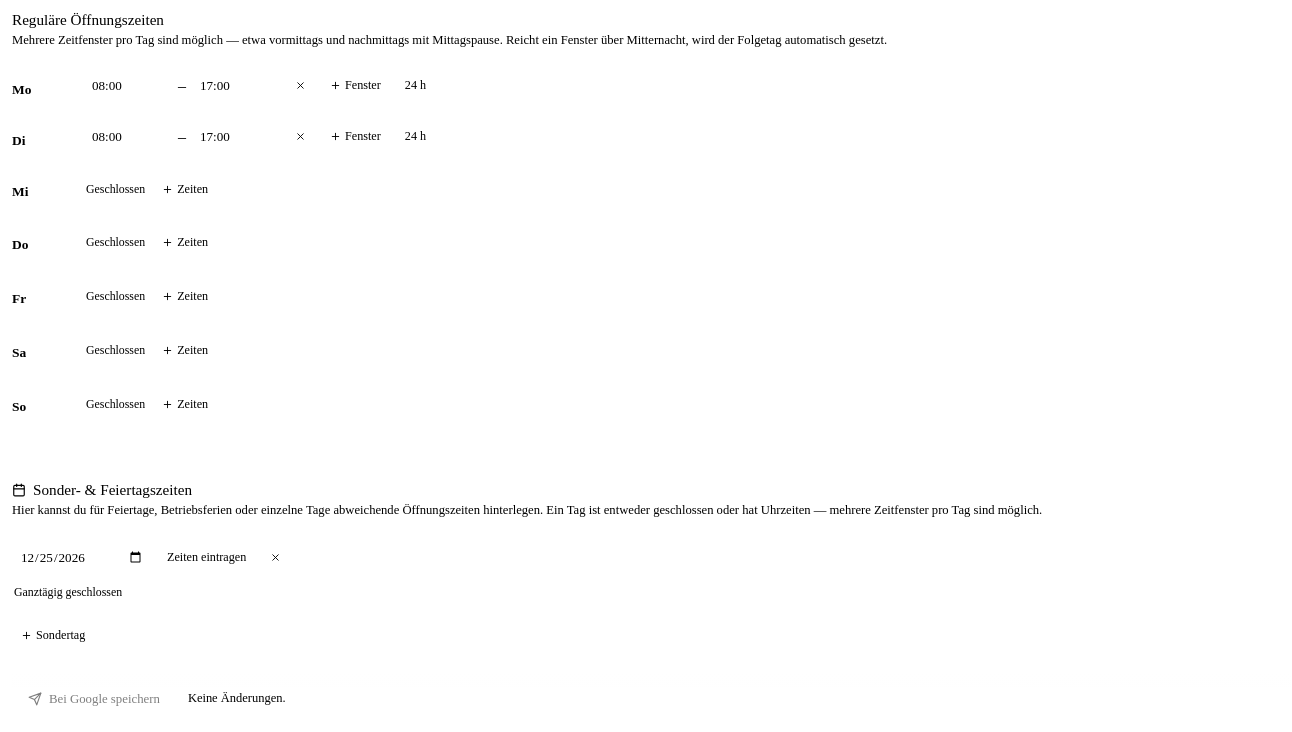
Test case: Bearbeiten › fügt ein zweites Zeitfenster am selben Tag hinzu
Type "12:00" into the field named "Montag Schließung 1" at (236, 86), box [192, 72, 280, 100]
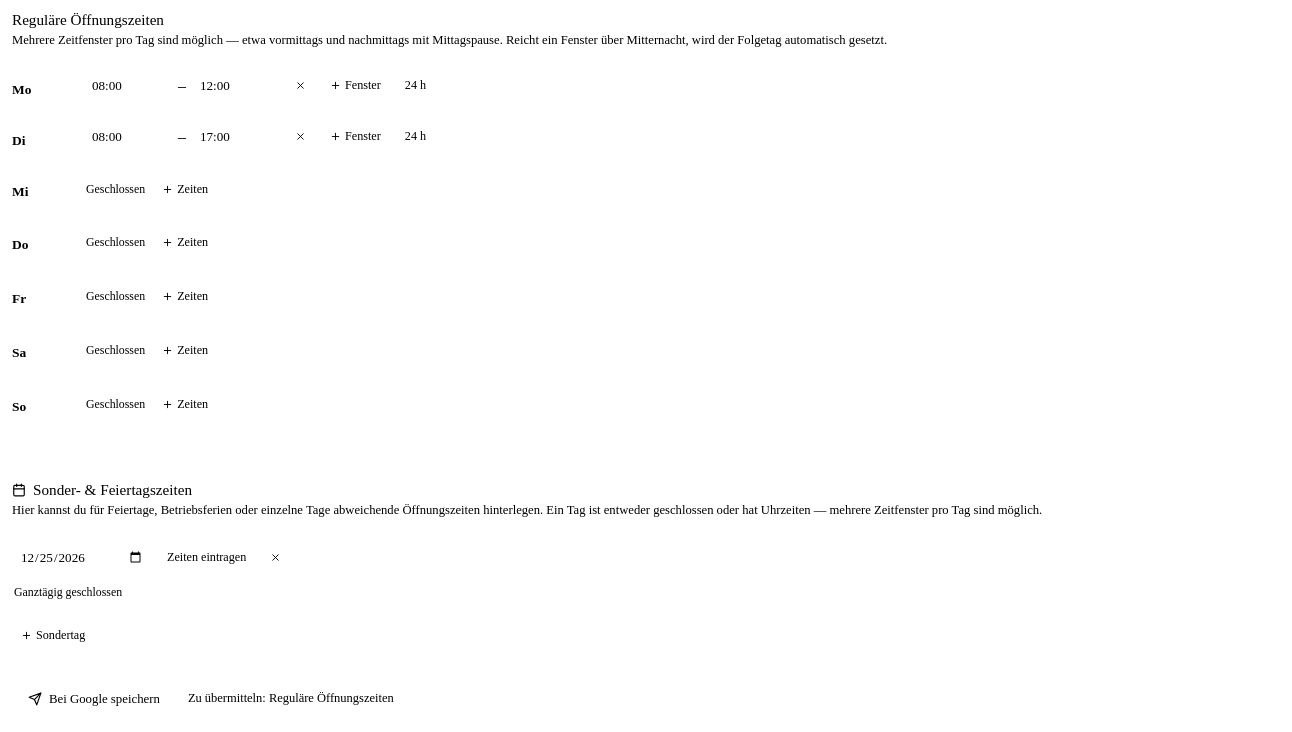
Click the button "Fenster" in the row of "Mo" at (355, 86), box [321, 73, 390, 98]
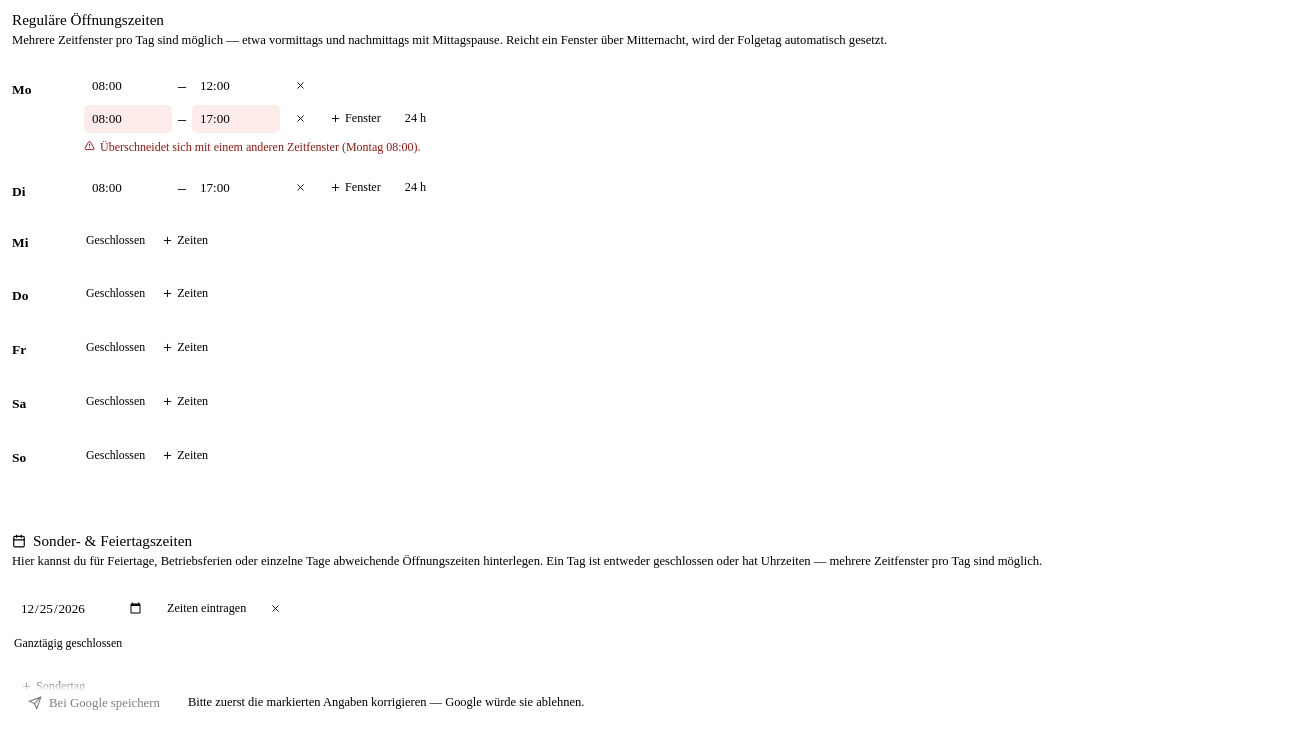
expect the field named "Montag Öffnung 2" is shown: met, box [84, 104, 172, 132]
